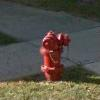Hydrant: (34, 27, 77, 88)
